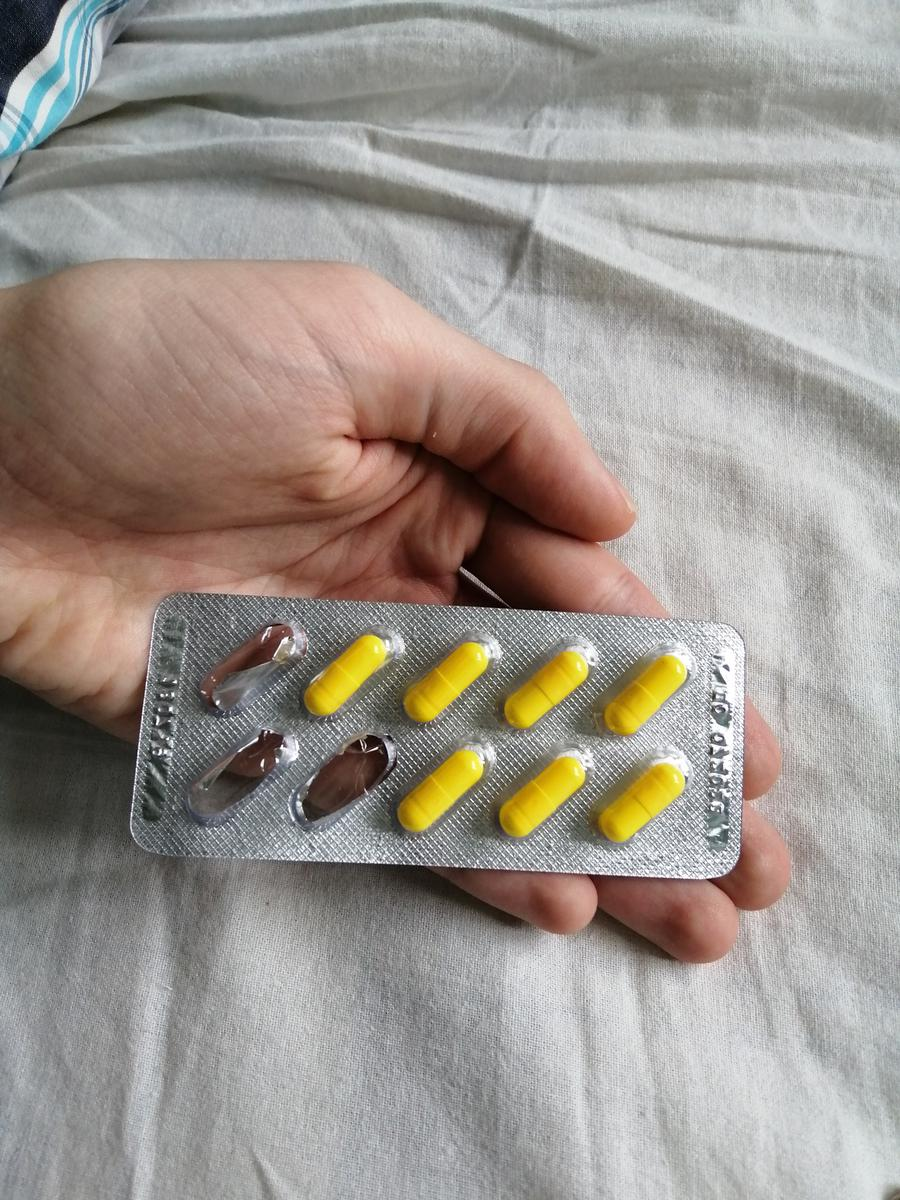capsule: (501, 641, 592, 738), (401, 638, 493, 729), (396, 741, 486, 834), (496, 756, 589, 844), (598, 760, 690, 847), (605, 647, 692, 738), (299, 629, 386, 713)
